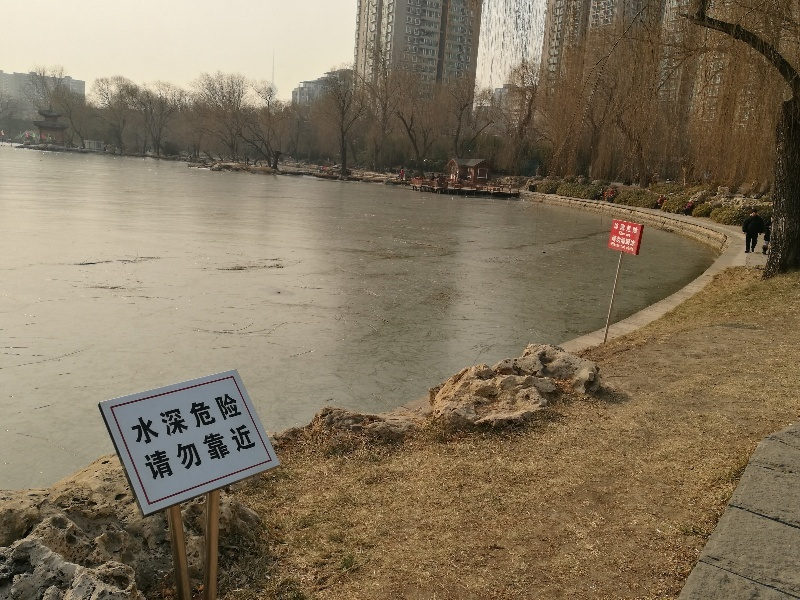text: (145, 420, 160, 484), (161, 420, 176, 484), (177, 420, 192, 484), (193, 420, 208, 484), (209, 420, 224, 484), (225, 420, 240, 484), (241, 420, 256, 484), (129, 390, 144, 449), (145, 390, 160, 449), (161, 390, 176, 449), (177, 390, 192, 449), (193, 390, 208, 449), (209, 390, 224, 449), (225, 390, 240, 449), (141, 420, 144, 484), (257, 420, 260, 484), (625, 222, 639, 235), (241, 390, 244, 449), (625, 235, 637, 247), (613, 235, 624, 247), (615, 222, 624, 235), (627, 246, 640, 252), (612, 242, 624, 248), (627, 233, 640, 238), (619, 231, 624, 237), (622, 245, 624, 250), (625, 231, 626, 237), (625, 245, 626, 250)
